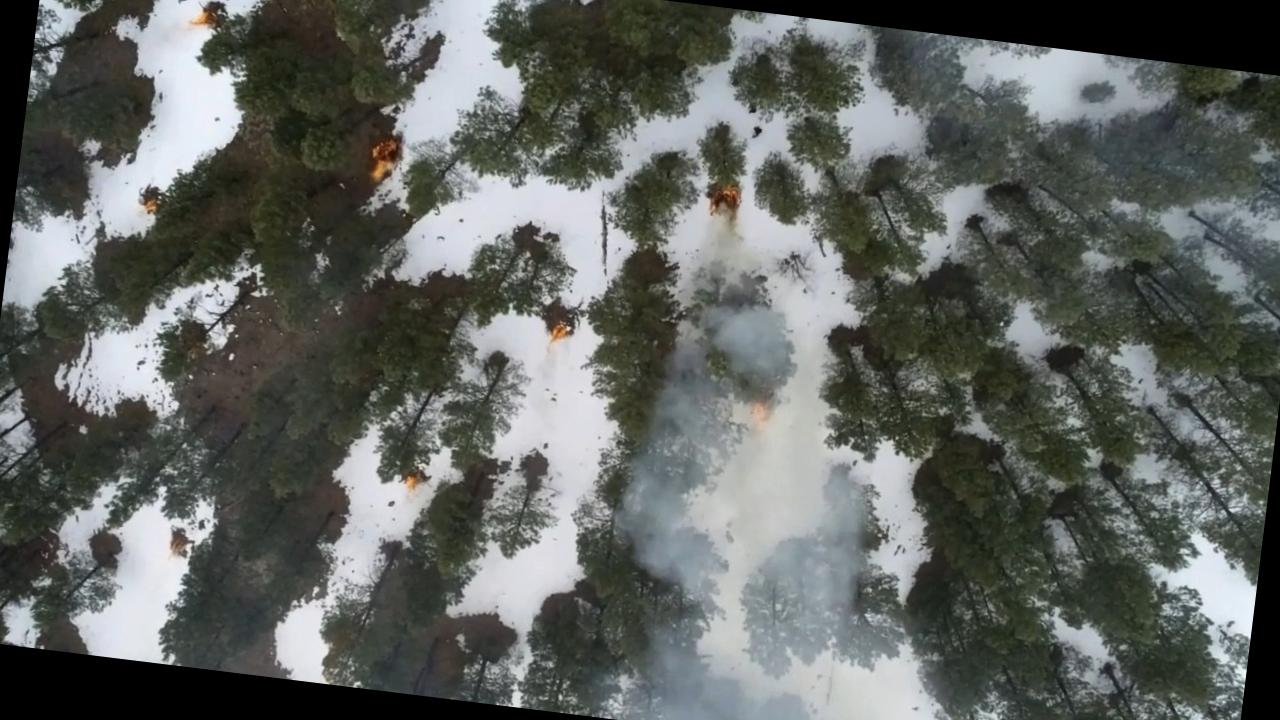fire: (353, 136, 399, 194), (697, 179, 745, 232), (540, 316, 576, 354), (395, 472, 427, 499)
smoke: (589, 484, 958, 720), (632, 304, 857, 509)
